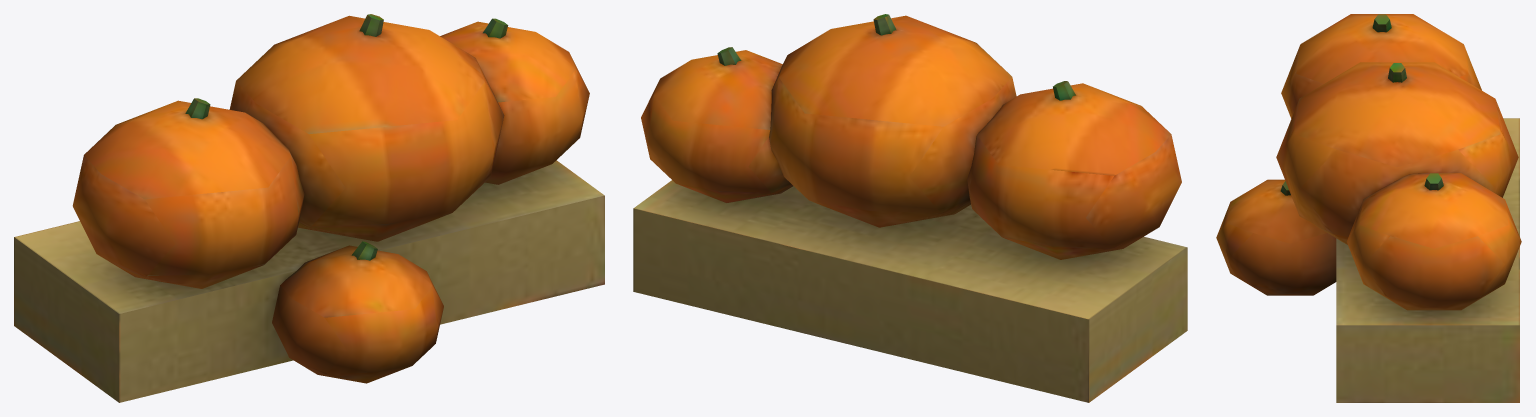
The model's file is calabazas.glb.
3 views of the same model, side by side, from view 1: azimuth 30°, elevation 25°; view 2: azimuth 150°, elevation 25°; view 3: azimuth 270°, elevation 25° (orthographic). The views are drawn at different scales.
Visible parts, largest first — view 1: calabazas; view 2: calabazas; view 3: calabazas.
Part boxes in pixels (x1,y1,x2,y2): calabazas: [14, 14, 604, 402]; calabazas: [633, 14, 1187, 402]; calabazas: [1216, 14, 1521, 402].
Size of the model in its own units: 1.69 by 0.9285 by 0.998.
Materials: 1 (1 with a texture image).
